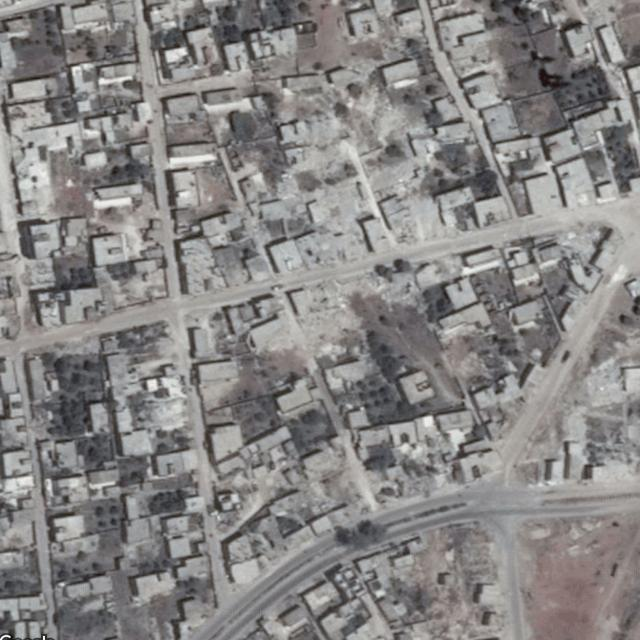damaged_building: (278, 59, 445, 257), (286, 271, 426, 355), (547, 222, 610, 262), (130, 394, 188, 428), (586, 359, 624, 404)
